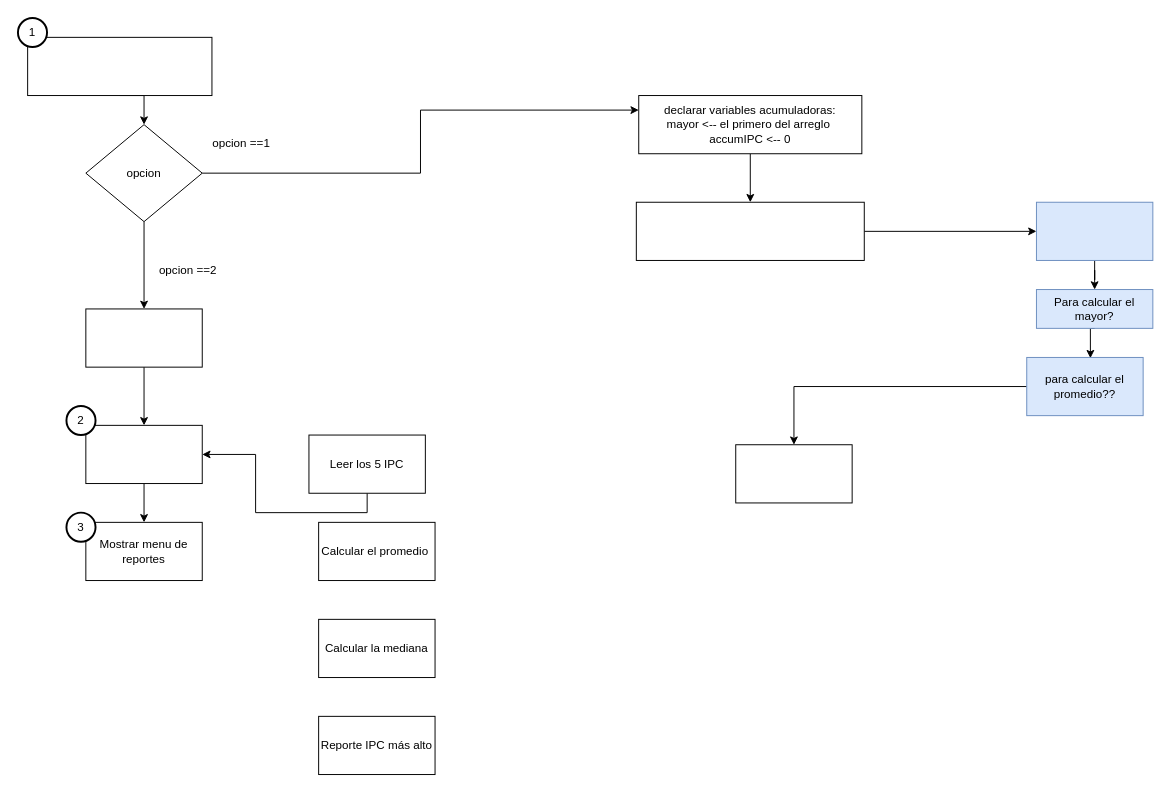
Image size: 1170x792. Some labels were removed from this diagram. Each missing label, with the box of its shape:
Leer el IPC y guardar en la posición i del arreglo: (1035, 201, 1153, 260)
Leer una opción (1) si quiere digitar los IPC (2) si quiere usar la tabla: (27, 36, 212, 96)
Por cada año, leer los valores de cada categoria: (85, 424, 202, 484)
Se escribe o se guarda la salida: (735, 444, 852, 503)
Usamos los valores de las tablas: (85, 308, 202, 367)
variable de control i <--0 condición ciclo: avance:: (635, 201, 864, 260)
